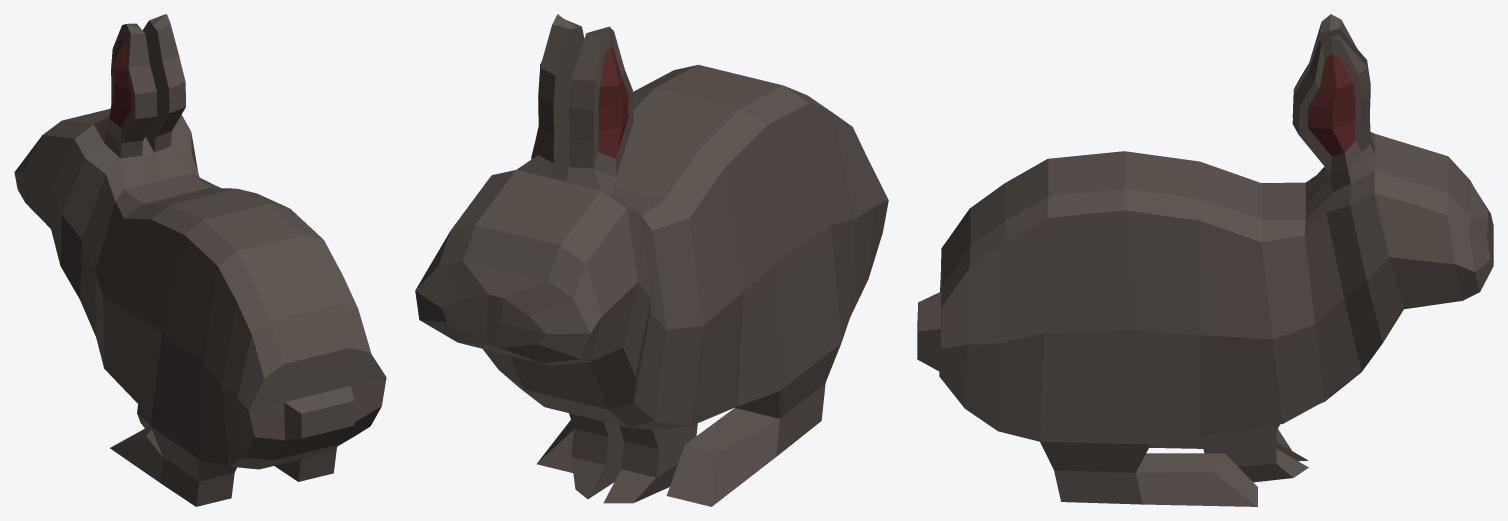
The model's file is hare.gltf.
The picture shows the model from 3 angles, left to right: view 1: azimuth 30°, elevation 25°; view 2: azimuth 150°, elevation 25°; view 3: azimuth 270°, elevation 25°; orthographic projection. The views are drawn at different scales.
Parts seen in each view (by area): view 1: Plane; view 2: Plane; view 3: Plane.
Part boxes in pixels (left/top/right/bottom): Plane: left=14, top=14, right=386, bottom=506; Plane: left=415, top=14, right=888, bottom=506; Plane: left=917, top=14, right=1493, bottom=506.
Size of the model in its own units: 320 by 791 by 933.
